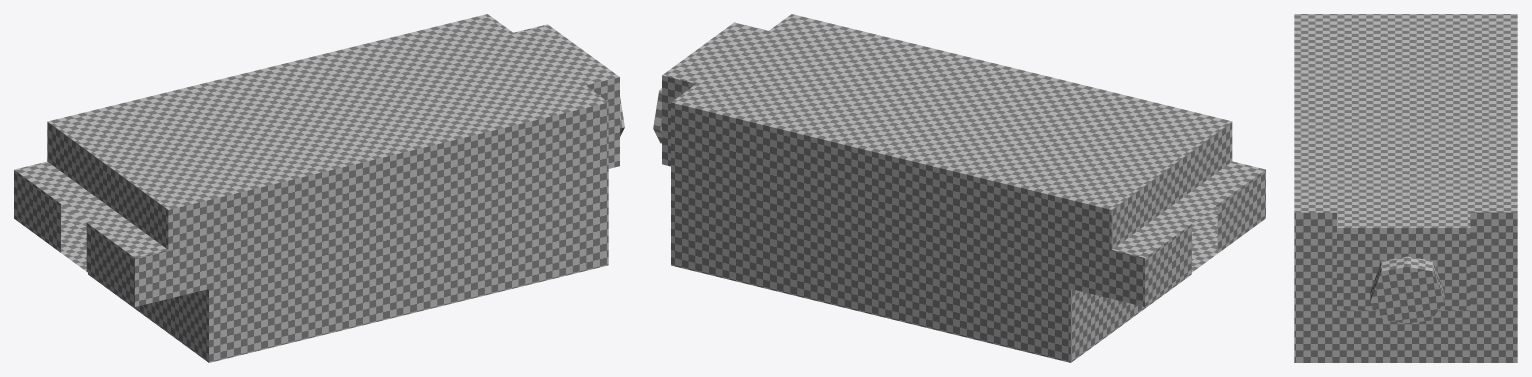
The model's file is prv1h-4.obj.
3 renders of one model, left to right at view 1: azimuth 30°, elevation 25°; view 2: azimuth 150°, elevation 25°; view 3: azimuth 270°, elevation 25°, orthographic. The views are drawn at different scales.
Visible parts, largest first — view 1: Cube.003; view 2: Cube.003; view 3: Cube.003.
Boxes of the visible parts, bbox=[...] form: Cube.003: bbox=[14, 14, 624, 362]; Cube.003: bbox=[653, 14, 1265, 362]; Cube.003: bbox=[1294, 14, 1517, 362].
Size of the model in its own units: 198 by 57.87 by 77.9.
